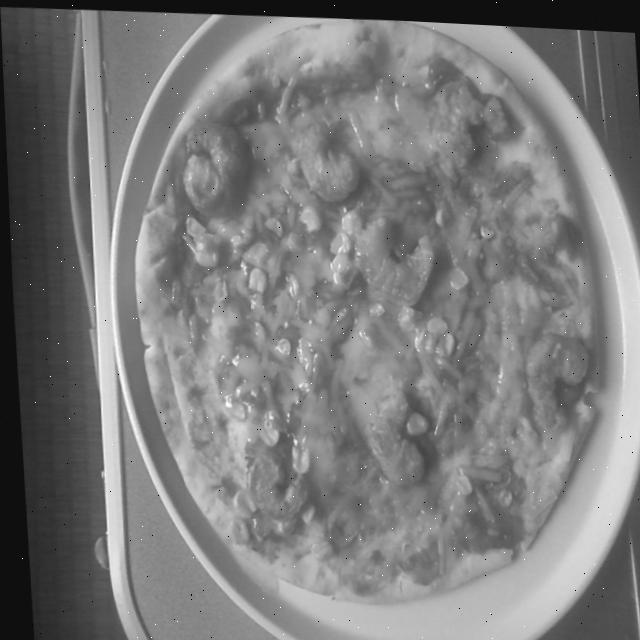汉堡快餐: (107, 4, 607, 630)
